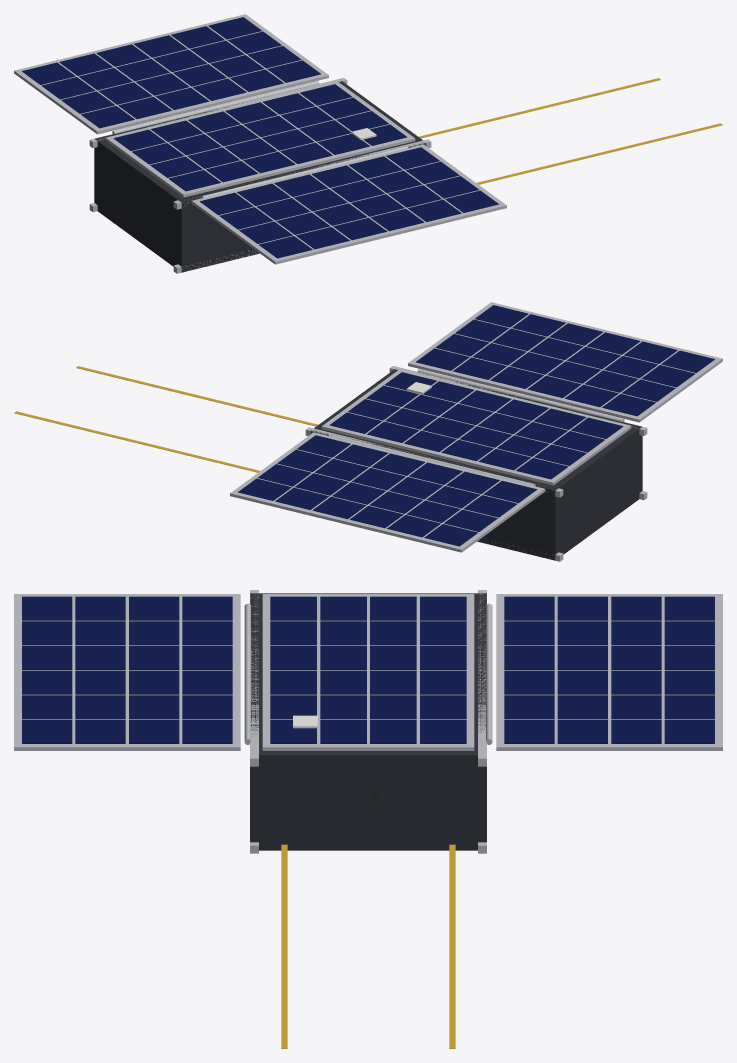
File: sat-demo-6u.glb
3 views of the same model, one above another, from view 1: azimuth 30°, elevation 25°; view 2: azimuth 150°, elevation 25°; view 3: azimuth 270°, elevation 25° (orthographic). The views are drawn at different scales.
Visible parts, largest first — view 1: bus, wing_p_substrate, wing_n_substrate, body_panel_substrate, hinge_1, ais_monopole_-1, ais_monopole_1, wing_n_cell_1_1, wing_n_cell_4_1, wing_n_cell_5_3, wing_p_cell_0_1, wing_p_cell_3_3 (+69 smaller); view 2: bus, wing_n_substrate, wing_p_substrate, body_panel_substrate, hinge_-1, ais_monopole_1, ais_monopole_-1, wing_n_cell_0_2, wing_n_cell_3_0, wing_p_cell_1_2, wing_p_cell_4_2, wing_p_cell_5_0 (+68 smaller); view 3: bus, wing_n_substrate, wing_p_substrate, body_panel_substrate, ais_monopole_-1, ais_monopole_1, wing_n_cell_0_1, wing_n_cell_0_3, wing_n_cell_1_1, wing_n_cell_1_3, wing_n_cell_3_1, wing_n_cell_3_3 (+70 smaller).
Boxes of the visible parts, x1,y1,x2,y2 form: bus: [94, 81, 426, 272]; wing_p_substrate: [14, 14, 328, 134]; wing_n_substrate: [191, 144, 506, 264]; body_panel_substrate: [105, 81, 415, 197]; hinge_1: [112, 81, 319, 133]; ais_monopole_-1: [477, 123, 722, 184]; ais_monopole_1: [418, 78, 660, 138]; wing_n_cell_1_1: [276, 212, 329, 234]; wing_n_cell_4_1: [388, 185, 441, 207]; wing_n_cell_5_3: [386, 147, 439, 169]; wing_p_cell_0_1: [61, 91, 114, 113]; wing_p_cell_3_3: [134, 35, 187, 57]; bus: [310, 369, 642, 560]; wing_n_substrate: [408, 302, 722, 422]; wing_p_substrate: [230, 432, 545, 552]; body_panel_substrate: [321, 369, 631, 485]; hinge_-1: [417, 369, 624, 421]; ais_monopole_1: [14, 411, 259, 472]; ais_monopole_-1: [76, 366, 318, 426]; wing_n_cell_0_2: [622, 379, 675, 401]; wing_n_cell_3_0: [549, 323, 602, 345]; wing_p_cell_1_2: [407, 500, 460, 522]; wing_p_cell_4_2: [295, 473, 348, 495]; wing_p_cell_5_0: [297, 435, 350, 457]; bus: [250, 593, 486, 850]; wing_n_substrate: [14, 594, 240, 750]; wing_p_substrate: [496, 594, 722, 750]; body_panel_substrate: [262, 594, 474, 750]; ais_monopole_-1: [281, 844, 287, 1048]; ais_monopole_1: [449, 844, 455, 1048]; wing_n_cell_0_1: [75, 596, 125, 620]; wing_n_cell_0_3: [182, 596, 232, 620]; wing_n_cell_1_1: [75, 621, 125, 645]; wing_n_cell_1_3: [182, 621, 232, 645]; wing_n_cell_3_1: [75, 670, 125, 694]; wing_n_cell_3_3: [182, 670, 232, 694].
Size of the model in its own units: 833 by 111 by 676.
